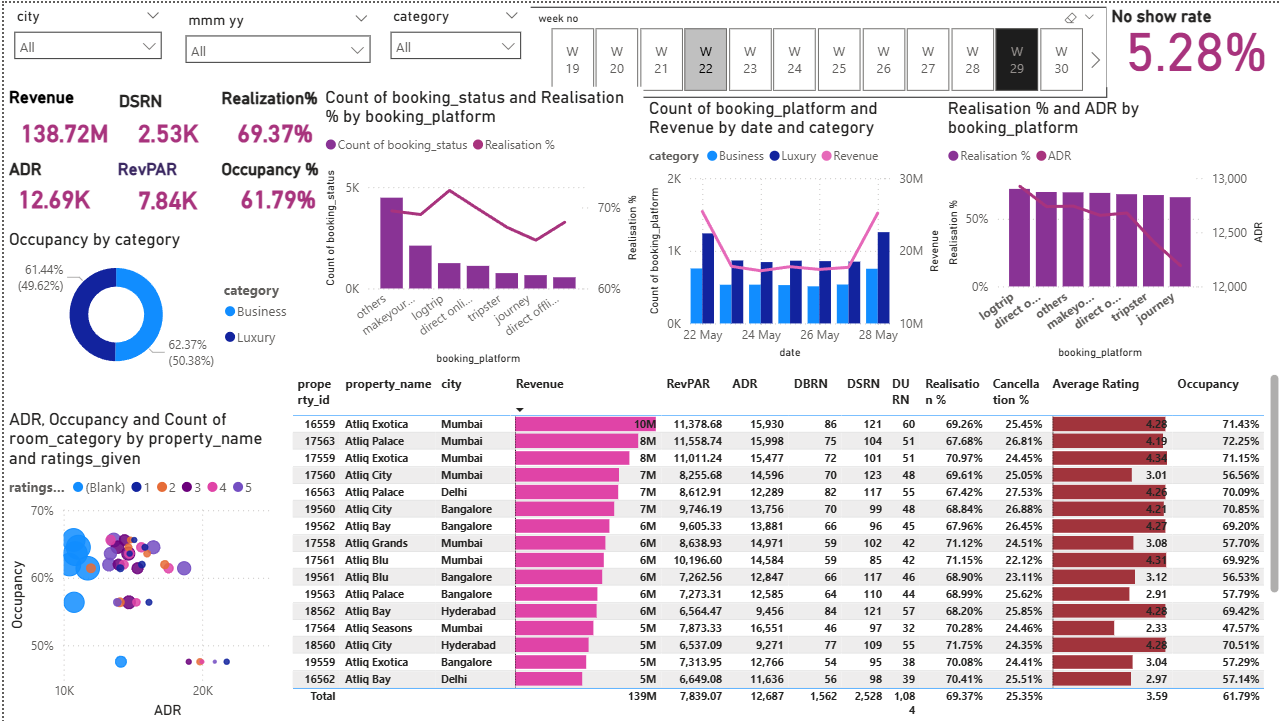

The dashboard page shown, as its layout file describes it:
{"tool":"powerbi","page":{"name":"Page 1","canvas":[1280,720],"ordinal":0},"visuals":[{"type":"tableEx","fields":{"Values":["dim_hotels.property_id","dim_hotels.property_name","dim_hotels.city","key_measures.Revenue","key_measures.RevPAR","key_measures.ADR","key_measures.DBRN","key_measures.DSRN","key_measures.DURN","key_measures.Realisation %","key_measures.Cancellation %","key_measures.Average Rating"]},"box":[282.7,366.7,997.5,353.1],"z":0},{"type":"slicer","fields":{"Values":["dim_hotels.city"]},"box":[0,0,167.9,80.2],"z":1000},{"type":"slicer","fields":{"Values":["dim_date.mmm yy.Variation.Date Hierarchy.Year"]},"box":[171.6,3.7,204.9,75.3],"z":2000},{"type":"slicer","fields":{"Values":["dim_date.week no"]},"box":[521,3.7,581.5,91.4],"z":3000},{"type":"slicer","fields":{"Values":["dim_hotels.category"]},"box":[376.5,0,150.6,84],"z":4000},{"type":"card","title":"Revenue","fields":{"Values":["key_measures.Revenue"]},"box":[0,84,121,72.8],"z":5000},{"type":"donutChart","fields":{"Category":["dim_hotels.category"],"Y":["key_measures.Occupancy"]},"box":[0,225.9,298.8,151.9],"z":6000},{"type":"card","title":"RevPAR","fields":{"Values":["key_measures.RevPAR"]},"box":[108.6,156.8,109.9,63],"z":7000},{"type":"card","title":"DSRN","fields":{"Values":["key_measures.DSRN"]},"box":[109.9,87.7,108.6,65.4],"z":8000},{"type":"card","title":"ADR","fields":{"Values":["key_measures.ADR"]},"box":[0,156.8,100,59.3],"z":9000},{"type":"card","title":"Realization%","fields":{"Values":["key_measures.Realisation %"]},"box":[212.3,85.2,117.3,70.4],"z":10000},{"type":"card","title":"Occupancy %","fields":{"Values":["key_measures.Occupancy"]},"box":[212.3,156.8,123.5,59.3],"z":11000},{"type":"lineClusteredColumnComboChart","fields":{"Y":["CountNonNull(fact_bookings.booking_platform)"],"Series":["dim_hotels.category"],"Category":["dim_date.date"],"Y2":["key_measures.Revenue"]},"box":[639.5,95.1,302.5,265.4],"z":12000},{"type":"card","title":"No show rate","fields":{"Values":["key_measures.No Show rate %"]},"box":[1102.5,2.5,177.8,81.5],"z":13000},{"type":"lineStackedColumnComboChart","fields":{"Category":["fact_bookings.booking_platform"],"Y":["CountNonNull(fact_bookings.booking_status)"],"Y2":["key_measures.Realisation %"]},"box":[316,84,323.5,282.7],"z":13001},{"type":"lineClusteredColumnComboChart","fields":{"Y":["key_measures.Realisation %"],"Y2":["key_measures.ADR"],"Category":["fact_bookings.booking_platform"]},"box":[938.3,95.1,327.2,265.4],"z":13002},{"type":"scatterChart","fields":{"X":["key_measures.ADR"],"Y":["key_measures.Occupancy"],"Category":["dim_hotels.property_name"],"Series":["fact_bookings.ratings_given"],"Size":["CountNonNull(fact_bookings.room_category)"]},"box":[0,406.2,282.7,313.6],"z":13003}]}

Visuals, with their boxes in screenshot pixels (x1, y1, x2, y2), scaled from the page's 1280x720 canvas onto the 1281x721 screenshot:
tableEx - dim_hotels.property_id x dim_hotels.property_name: x1=283, y1=367, x2=1280, y2=720
slicer - dim_hotels.city: x1=0, y1=0, x2=168, y2=80
slicer - dim_date.mmm yy.Variation.Date Hierarchy.Year: x1=172, y1=4, x2=377, y2=79
slicer - dim_date.week no: x1=521, y1=4, x2=1103, y2=95
slicer - dim_hotels.category: x1=377, y1=0, x2=528, y2=84
"Revenue" card: x1=0, y1=84, x2=121, y2=157
donutChart - dim_hotels.category x key_measures.Occupancy: x1=0, y1=226, x2=299, y2=378
"RevPAR" card: x1=109, y1=157, x2=219, y2=220
"DSRN" card: x1=110, y1=88, x2=219, y2=153
"ADR" card: x1=0, y1=157, x2=100, y2=216
"Realization%" card: x1=212, y1=85, x2=330, y2=156
"Occupancy %" card: x1=212, y1=157, x2=336, y2=216
lineClusteredColumnComboChart - CountNonNull(fact_bookings.booking_platform) x dim_hotels.category: x1=640, y1=95, x2=943, y2=361
"No show rate" card: x1=1103, y1=3, x2=1280, y2=84
lineStackedColumnComboChart - fact_bookings.booking_platform x CountNonNull(fact_bookings.booking_status): x1=316, y1=84, x2=640, y2=367
lineClusteredColumnComboChart - key_measures.Realisation % x key_measures.ADR: x1=939, y1=95, x2=1266, y2=361
scatterChart - key_measures.ADR x key_measures.Occupancy: x1=0, y1=407, x2=283, y2=720
